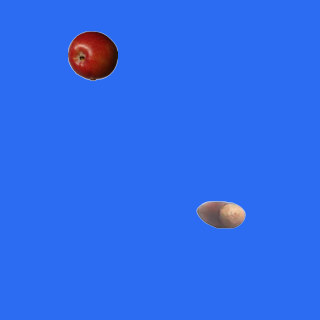Apple Braeburn: (67, 30, 117, 80)
Hazelnut: (195, 189, 245, 239)
